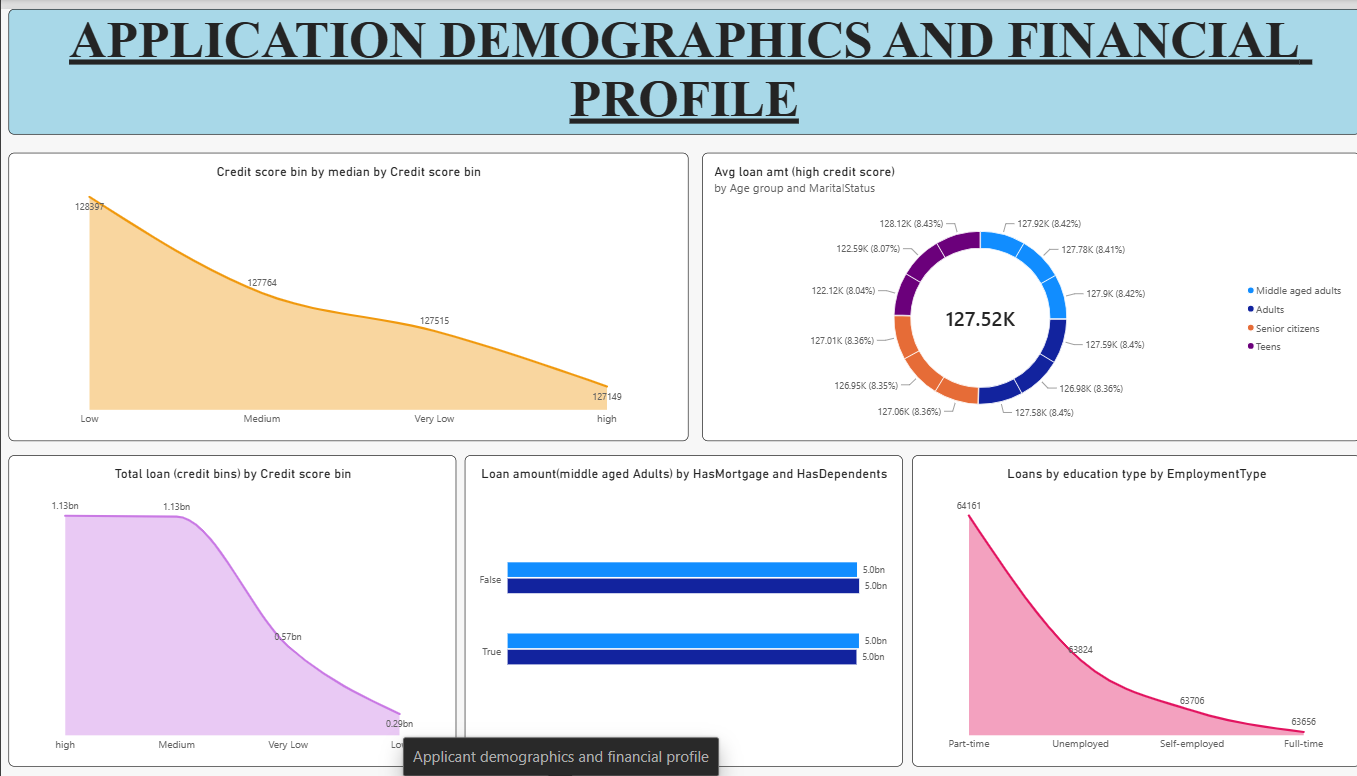

The page's visual inventory and layout, read from the dashboard file:
{"tool":"powerbi","page":{"name":"Applicant demographics and financial profile ","canvas":[1920,1080],"ordinal":1},"visuals":[{"type":"textbox","box":[10.8,0,1886.1,174.9],"z":0},{"type":"lineChart","fields":{"Category":["Loan_default.Credit score bin"],"Y":["Measures Table 2.Credit score by median"]},"box":[10.7,201.2,948.4,402.5],"z":1000},{"type":"donutChart","fields":{"Category":["Loan_default.Age group"],"Series":["Loan_default.MaritalStatus"],"Y":["Measures Table 2.Avg loan amt (high credit score)"]},"box":[978.4,201.2,918.5,402.5],"z":2000},{"type":"lineChart","fields":{"Category":["Loan_default.Credit score bin"],"Y":["Measures Table 2.Total loan (credit bins)"]},"box":[10.7,623,625.2,434.6],"z":3000},{"type":"clusteredBarChart","fields":{"Category":["Loan_default.HasMortgage"],"Series":["Loan_default.HasDependents"],"Y":["Measures Table 2.Loan amount(middle aged Adults)"]},"box":[647.3,622.1,611.3,434.6],"z":4000},{"type":"lineChart","fields":{"Category":["Loan_default.EmploymentType"],"Y":["Measures Table 2.Loans by education type"]},"box":[1271.2,622.1,625.7,434.6],"z":5000}]}

Visuals, with their boxes in screenshot pixels (x1, y1, x2, y2), scaled from the page's 1920x1080 canvas onto the 1357x776 screenshot:
textbox: 8/0/1341/126
lineChart - Loan_default.Credit score bin x Measures Table 2.Credit score by median: 8/145/678/434
donutChart - Loan_default.Age group x Loan_default.MaritalStatus: 692/145/1341/434
lineChart - Loan_default.Credit score bin x Measures Table 2.Total loan (credit bins): 8/448/449/760
clusteredBarChart - Loan_default.HasMortgage x Loan_default.HasDependents: 457/447/890/759
lineChart - Loan_default.EmploymentType x Measures Table 2.Loans by education type: 898/447/1341/759
